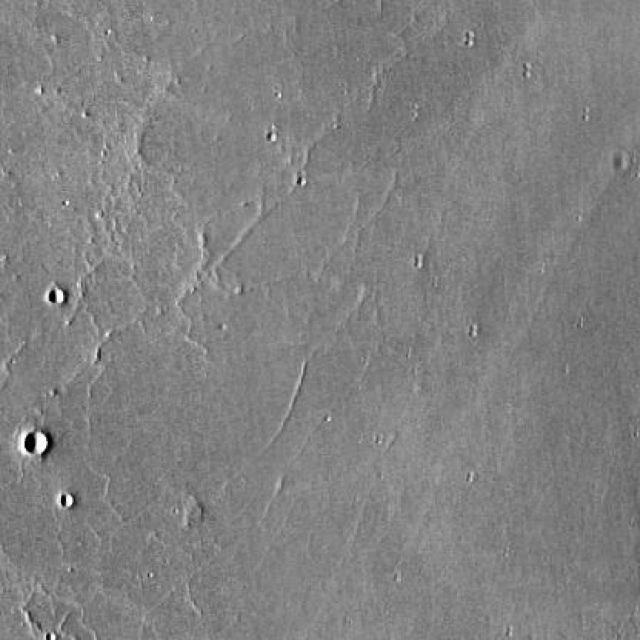crater: (24, 428, 48, 452), (614, 153, 631, 170), (49, 288, 66, 304)
